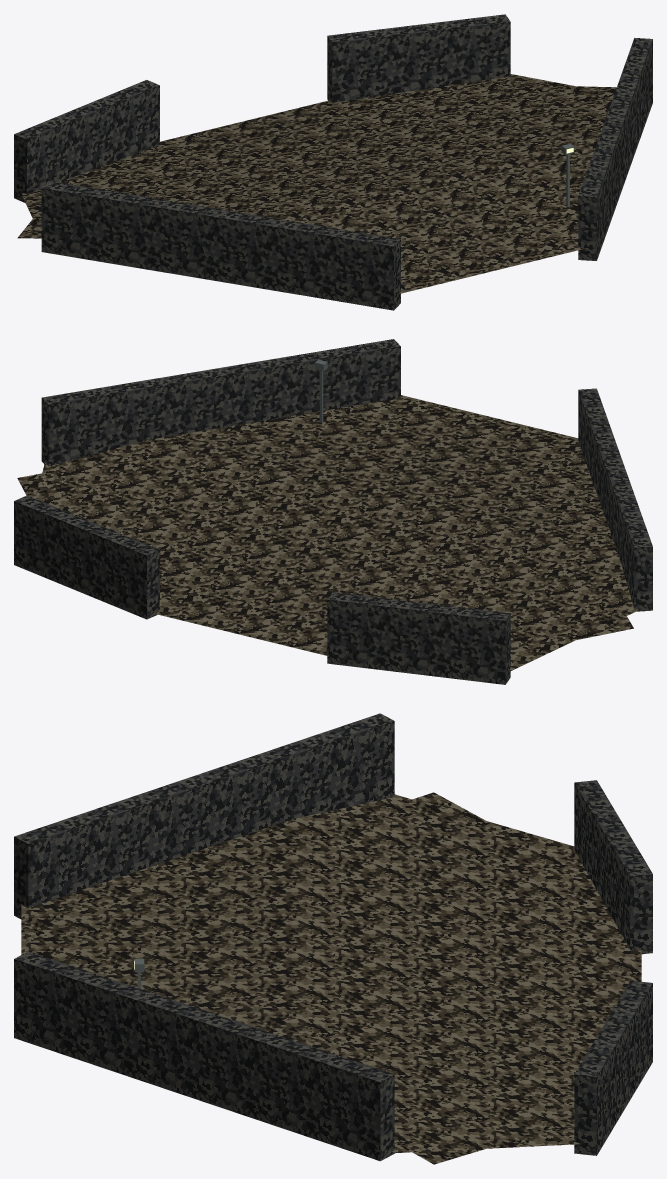
File: PL_Shared_Fork.fbx
The picture shows the model from 3 angles, top to bottom: view 1: azimuth 30°, elevation 25°; view 2: azimuth 150°, elevation 25°; view 3: azimuth 270°, elevation 25°; orthographic projection. The views are drawn at different scales.
Visible parts, largest first — view 1: PL_Travel_ForkHub, PL_Fork_RockBoundary.003, PL_Travel_ForkB, PL_Fork_RockBoundary.001, PL_Travel_ForkC, PL_Fork_RockBoundary.002, PL_Fork_RockBoundary, PL_Travel_ForkA; view 2: PL_Travel_ForkHub, PL_Travel_ForkB, PL_Fork_RockBoundary, PL_Fork_RockBoundary.002, PL_Travel_ForkC, PL_Fork_RockBoundary.001, PL_Fork_RockBoundary.003, PL_Travel_ForkA; view 3: PL_Travel_ForkHub, PL_Fork_RockBoundary, PL_Travel_ForkB, PL_Fork_RockBoundary.003, PL_Travel_ForkA, PL_Fork_RockBoundary.001, PL_Fork_RockBoundary.002, PL_Travel_ForkC.
Part boxes in pixels (x1,y1,x2,y2): PL_Travel_ForkHub: [20, 74, 614, 294]; PL_Fork_RockBoundary.003: [41, 181, 400, 310]; PL_Travel_ForkB: [190, 106, 516, 247]; PL_Fork_RockBoundary.001: [327, 14, 510, 102]; PL_Travel_ForkC: [409, 85, 616, 254]; PL_Fork_RockBoundary.002: [14, 80, 159, 202]; PL_Fork_RockBoundary: [578, 38, 652, 260]; PL_Travel_ForkA: [17, 202, 476, 273]; PL_Travel_ForkHub: [35, 395, 642, 672]; PL_Travel_ForkB: [176, 424, 528, 650]; PL_Fork_RockBoundary: [41, 339, 400, 466]; PL_Fork_RockBoundary.002: [327, 592, 510, 684]; PL_Travel_ForkC: [17, 414, 476, 520]; PL_Fork_RockBoundary.001: [14, 495, 159, 619]; PL_Fork_RockBoundary.003: [578, 388, 652, 611]; PL_Travel_ForkA: [401, 433, 633, 651]; PL_Travel_ForkHub: [21, 794, 641, 1153]; PL_Fork_RockBoundary: [14, 951, 394, 1161]; PL_Travel_ForkB: [98, 918, 641, 1037]; PL_Fork_RockBoundary.003: [14, 713, 394, 918]; PL_Travel_ForkA: [44, 792, 538, 978]; PL_Fork_RockBoundary.001: [574, 980, 652, 1155]; PL_Fork_RockBoundary.002: [574, 780, 652, 954]; PL_Travel_ForkC: [81, 938, 538, 1164].
Size of the model in its own units: 4543 by 685 by 3296.
4 materials, 2 textured.
